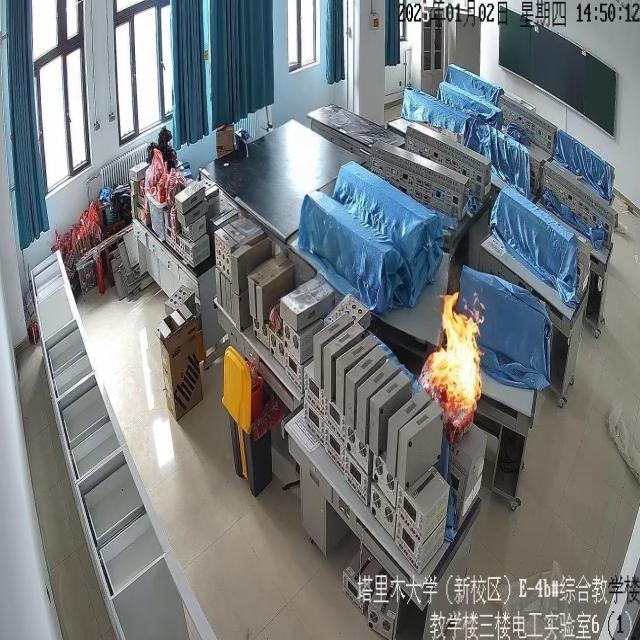smoke: (429, 288, 482, 433)
